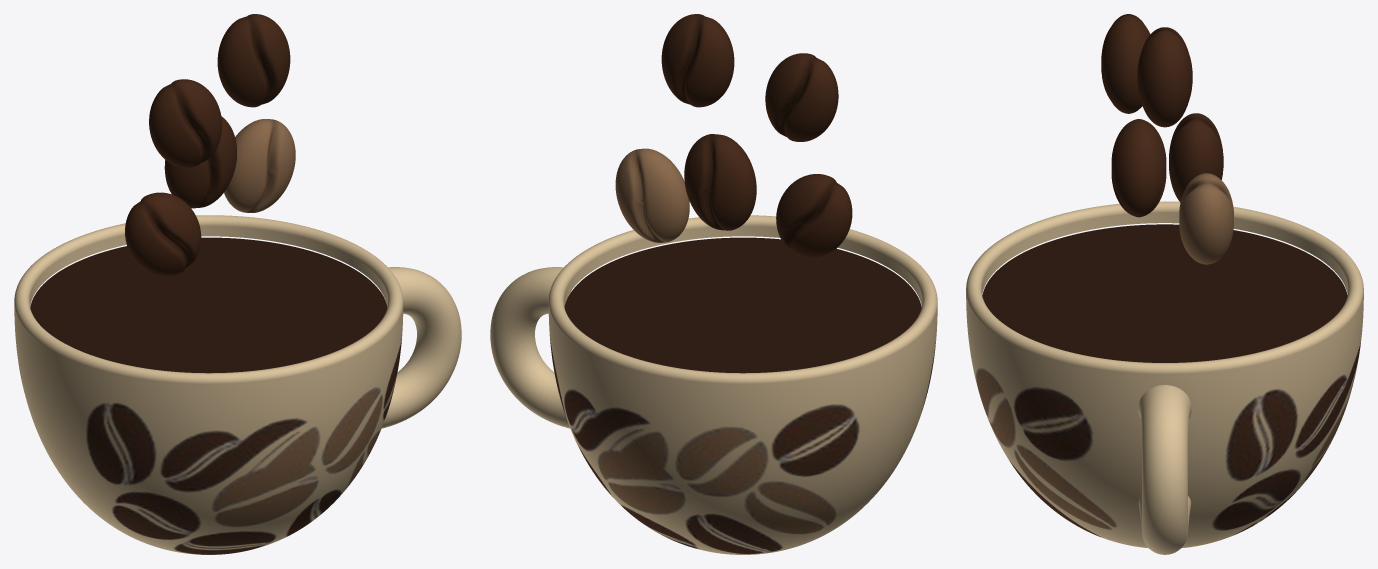
The model's file is b-tazaGranos.glb.
3 renders of one model, left to right at view 1: azimuth 30°, elevation 25°; view 2: azimuth 150°, elevation 25°; view 3: azimuth 270°, elevation 25°, orthographic. The views are drawn at different scales.
Parts seen in each view (by area): view 1: Taza_B-taza, Granos_flotantes; view 2: Taza_B-taza, Granos_flotantes; view 3: Taza_B-taza, Granos_flotantes.
Part boxes in pixels (x1,y1,x2,y2): Taza_B-taza: [14, 215, 461, 554]; Granos_flotantes: [125, 14, 295, 276]; Taza_B-taza: [490, 215, 937, 554]; Granos_flotantes: [615, 14, 852, 257]; Taza_B-taza: [966, 201, 1363, 554]; Granos_flotantes: [1101, 14, 1233, 264].
Bounding box in the file's own units: 0.095 × 0.1107 × 0.0765.
4 materials, 1 textured.
